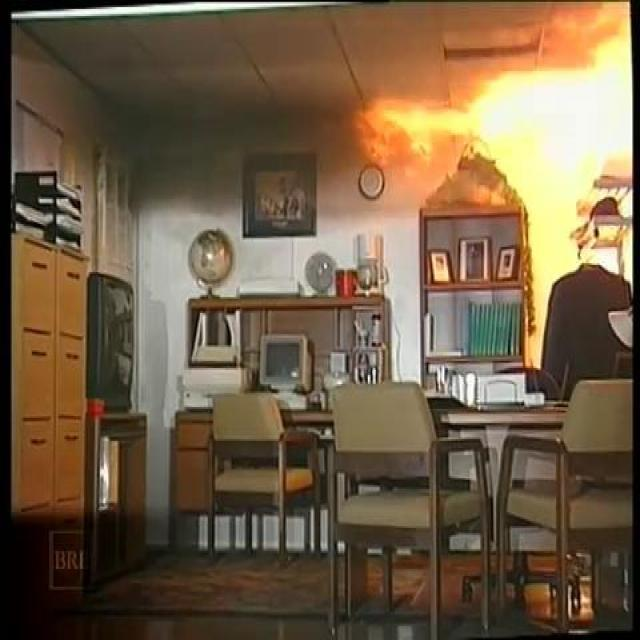Fire: (368, 28, 640, 202)
Smoke: (112, 88, 344, 212)
